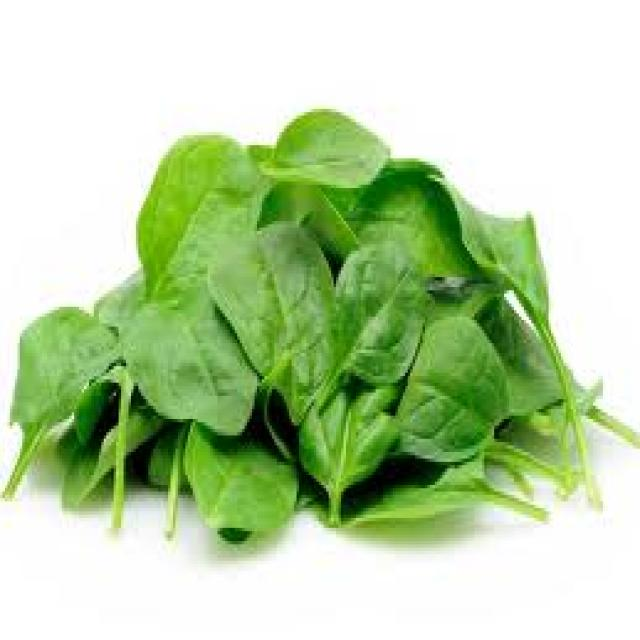greens: (0, 86, 638, 577)
